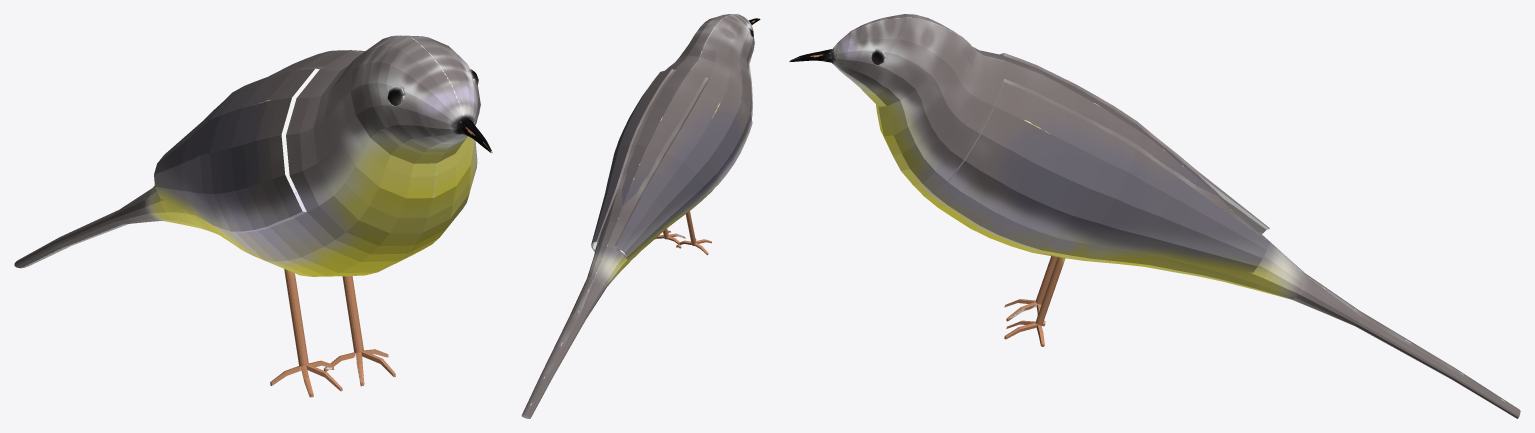
The model's file is Color_graywagtail.fbx.
The picture shows the model from 3 angles, left to right: view 1: azimuth 30°, elevation 25°; view 2: azimuth 150°, elevation 25°; view 3: azimuth 270°, elevation 25°; orthographic projection. The views are drawn at different scales.
Parts seen in each view (by area): view 1: Bird.Wagtail; view 2: Bird.Wagtail; view 3: Bird.Wagtail.
Part boxes in pixels (box(x1,y1,x2,y2)): Bird.Wagtail: box(14, 35, 492, 397); Bird.Wagtail: box(521, 14, 760, 418); Bird.Wagtail: box(789, 14, 1520, 418).
Bounding box in the file's own units: 536 × 1309 × 2169.
